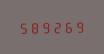eight: (28, 20, 38, 34)
five: (17, 20, 27, 34)
nine: (40, 20, 50, 34), (73, 19, 83, 33)
six: (62, 19, 72, 33)
two: (51, 20, 61, 33)
